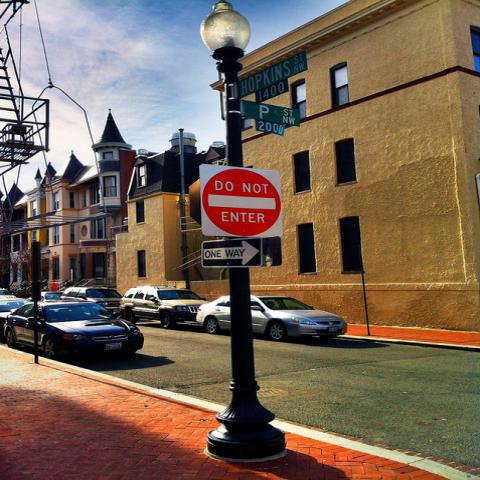car: (2, 300, 145, 360), (194, 294, 352, 343), (118, 284, 209, 328), (58, 286, 123, 311), (0, 303, 15, 341), (26, 292, 52, 301), (40, 292, 64, 301), (0, 288, 18, 299)
truck: (117, 283, 212, 329), (59, 286, 124, 318)
